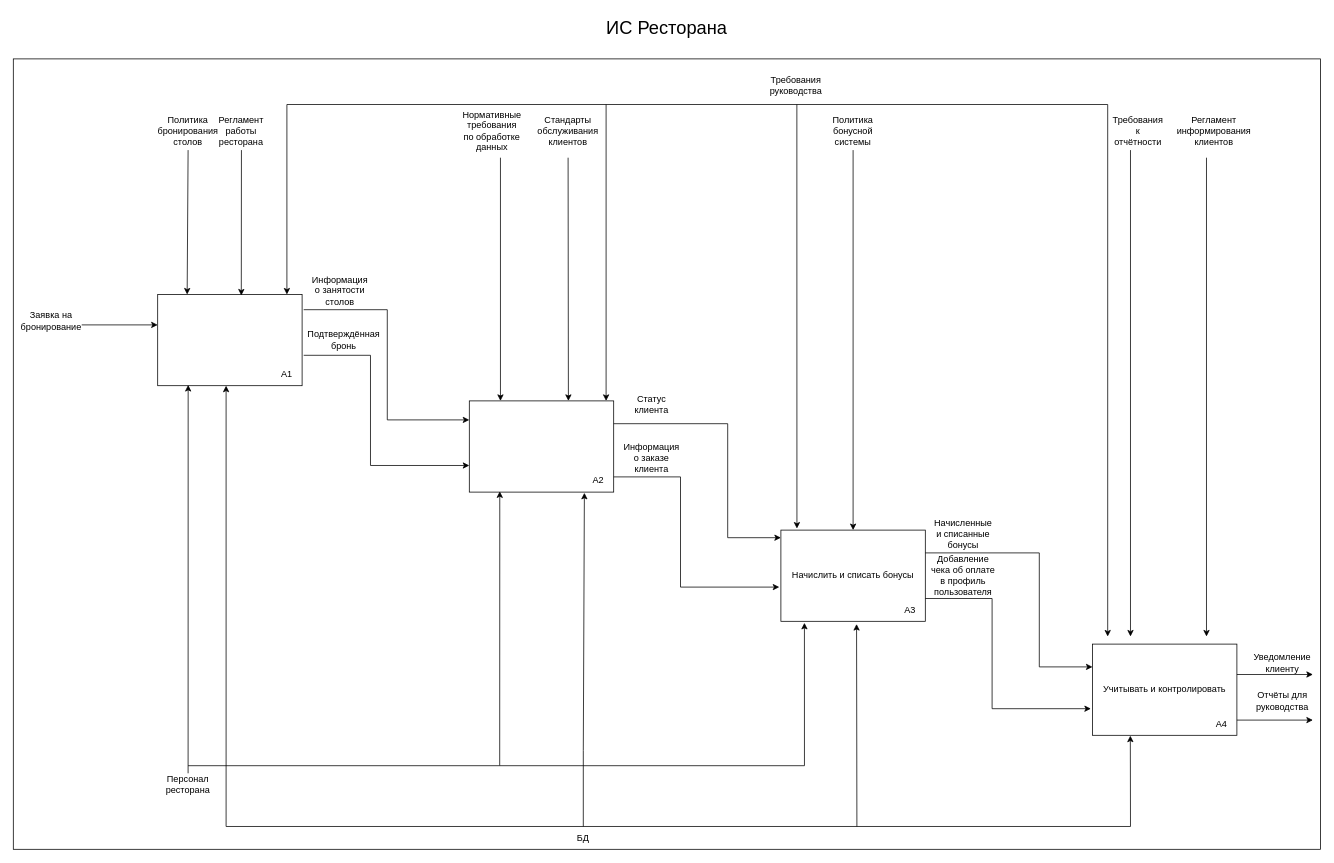
Some shapes in this 1334 by 863 pixel diagram are drawn without their labels. The box of each missing label's shape, as (x1, y1, x2, y2) in pixels:
Вводить данные клиента: (469, 400, 614, 492)
Оформлять бронирование: (157, 294, 302, 386)
